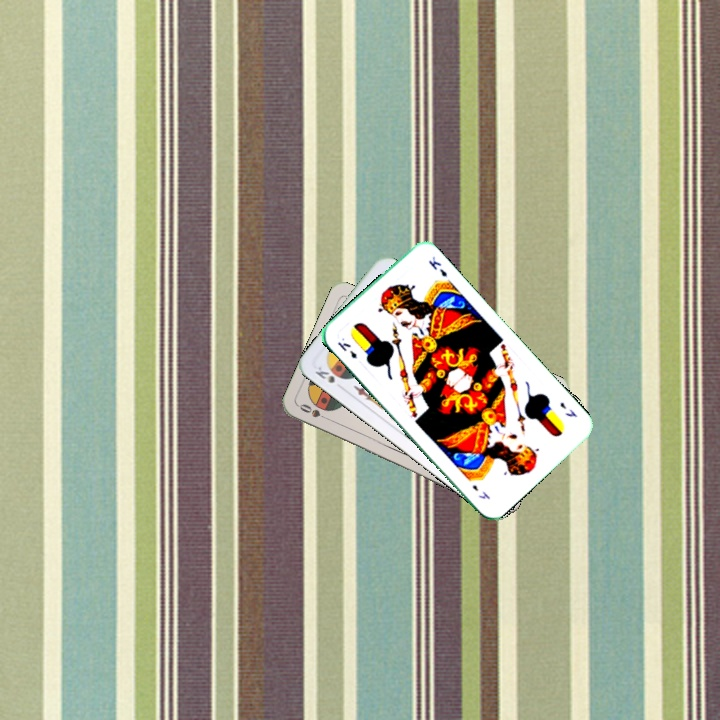EK: (334, 338, 360, 361), (556, 398, 579, 420)
SK: (311, 361, 337, 386)
SO: (295, 400, 333, 424)
